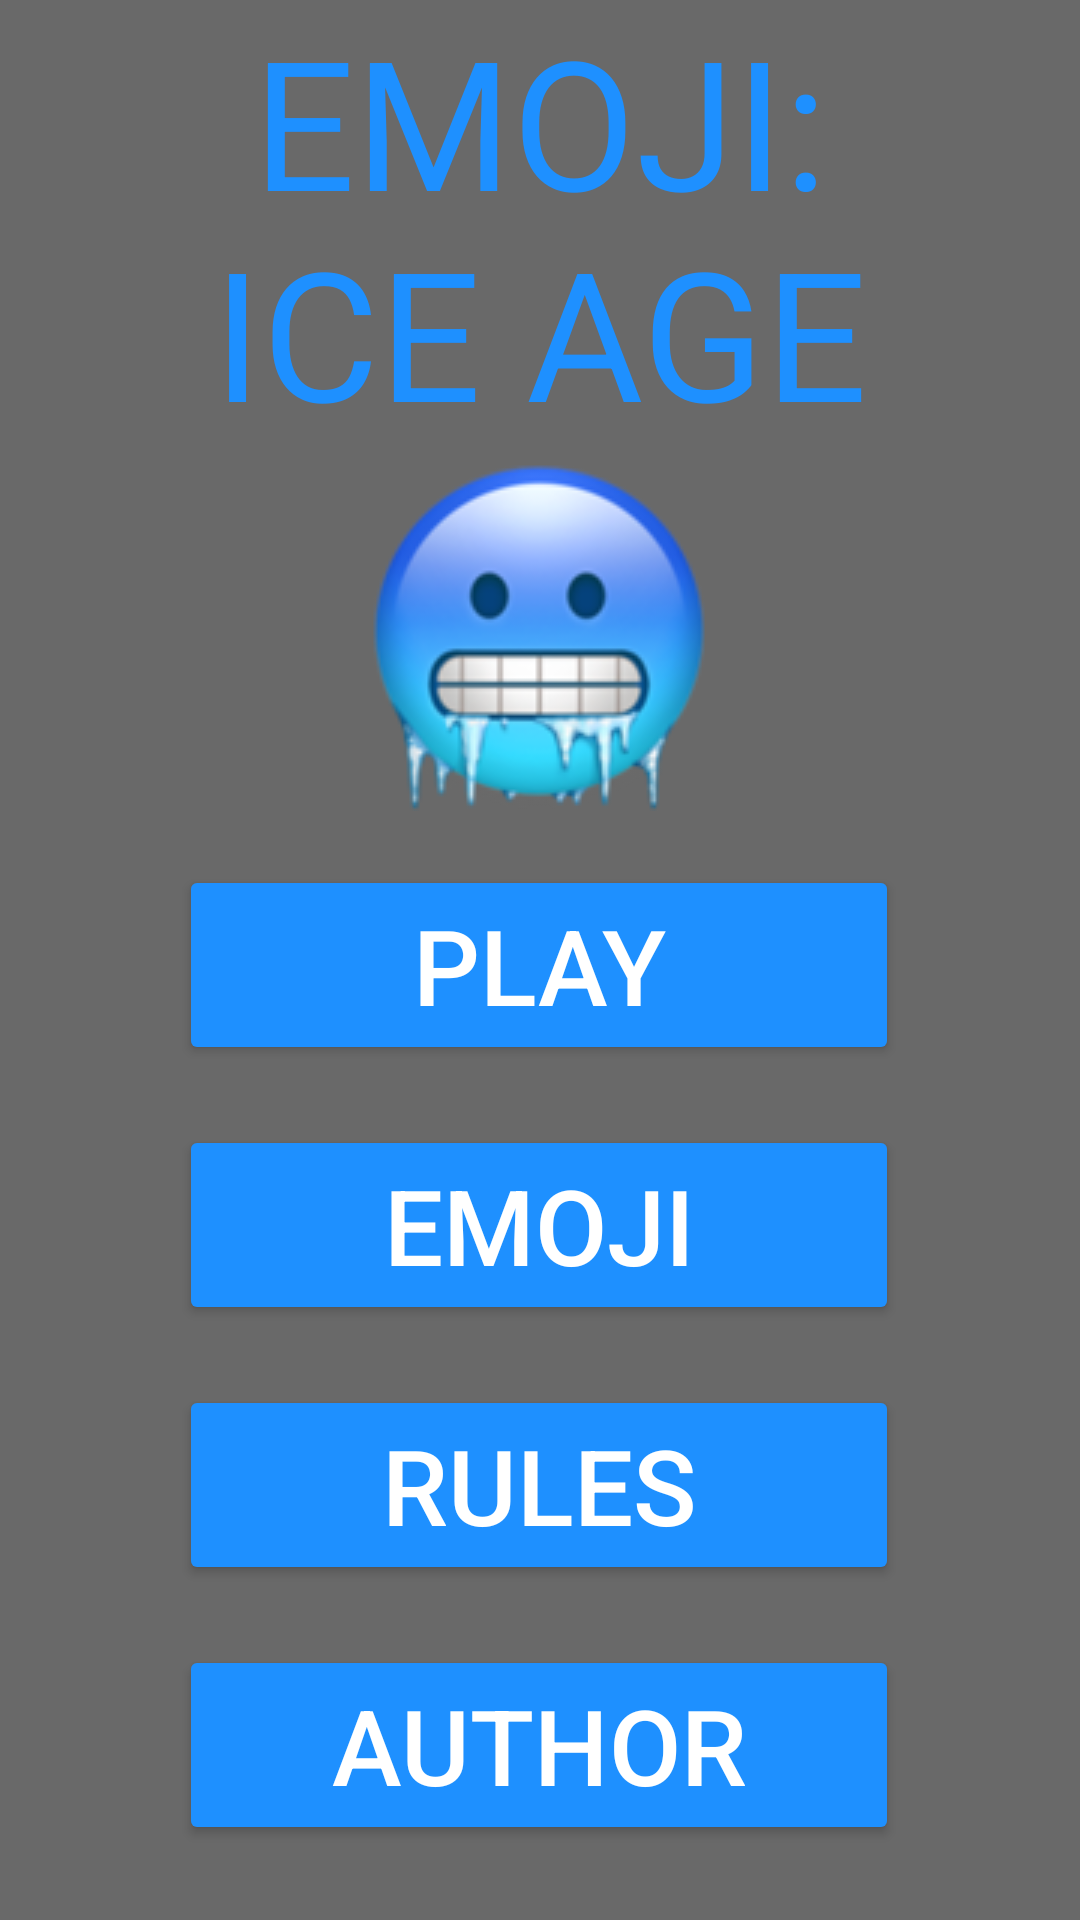

Icons on this 1080 x 1920 Android screen, each with its box as (x1, y1, x2, y2):
iceem: (374, 466, 704, 809)
